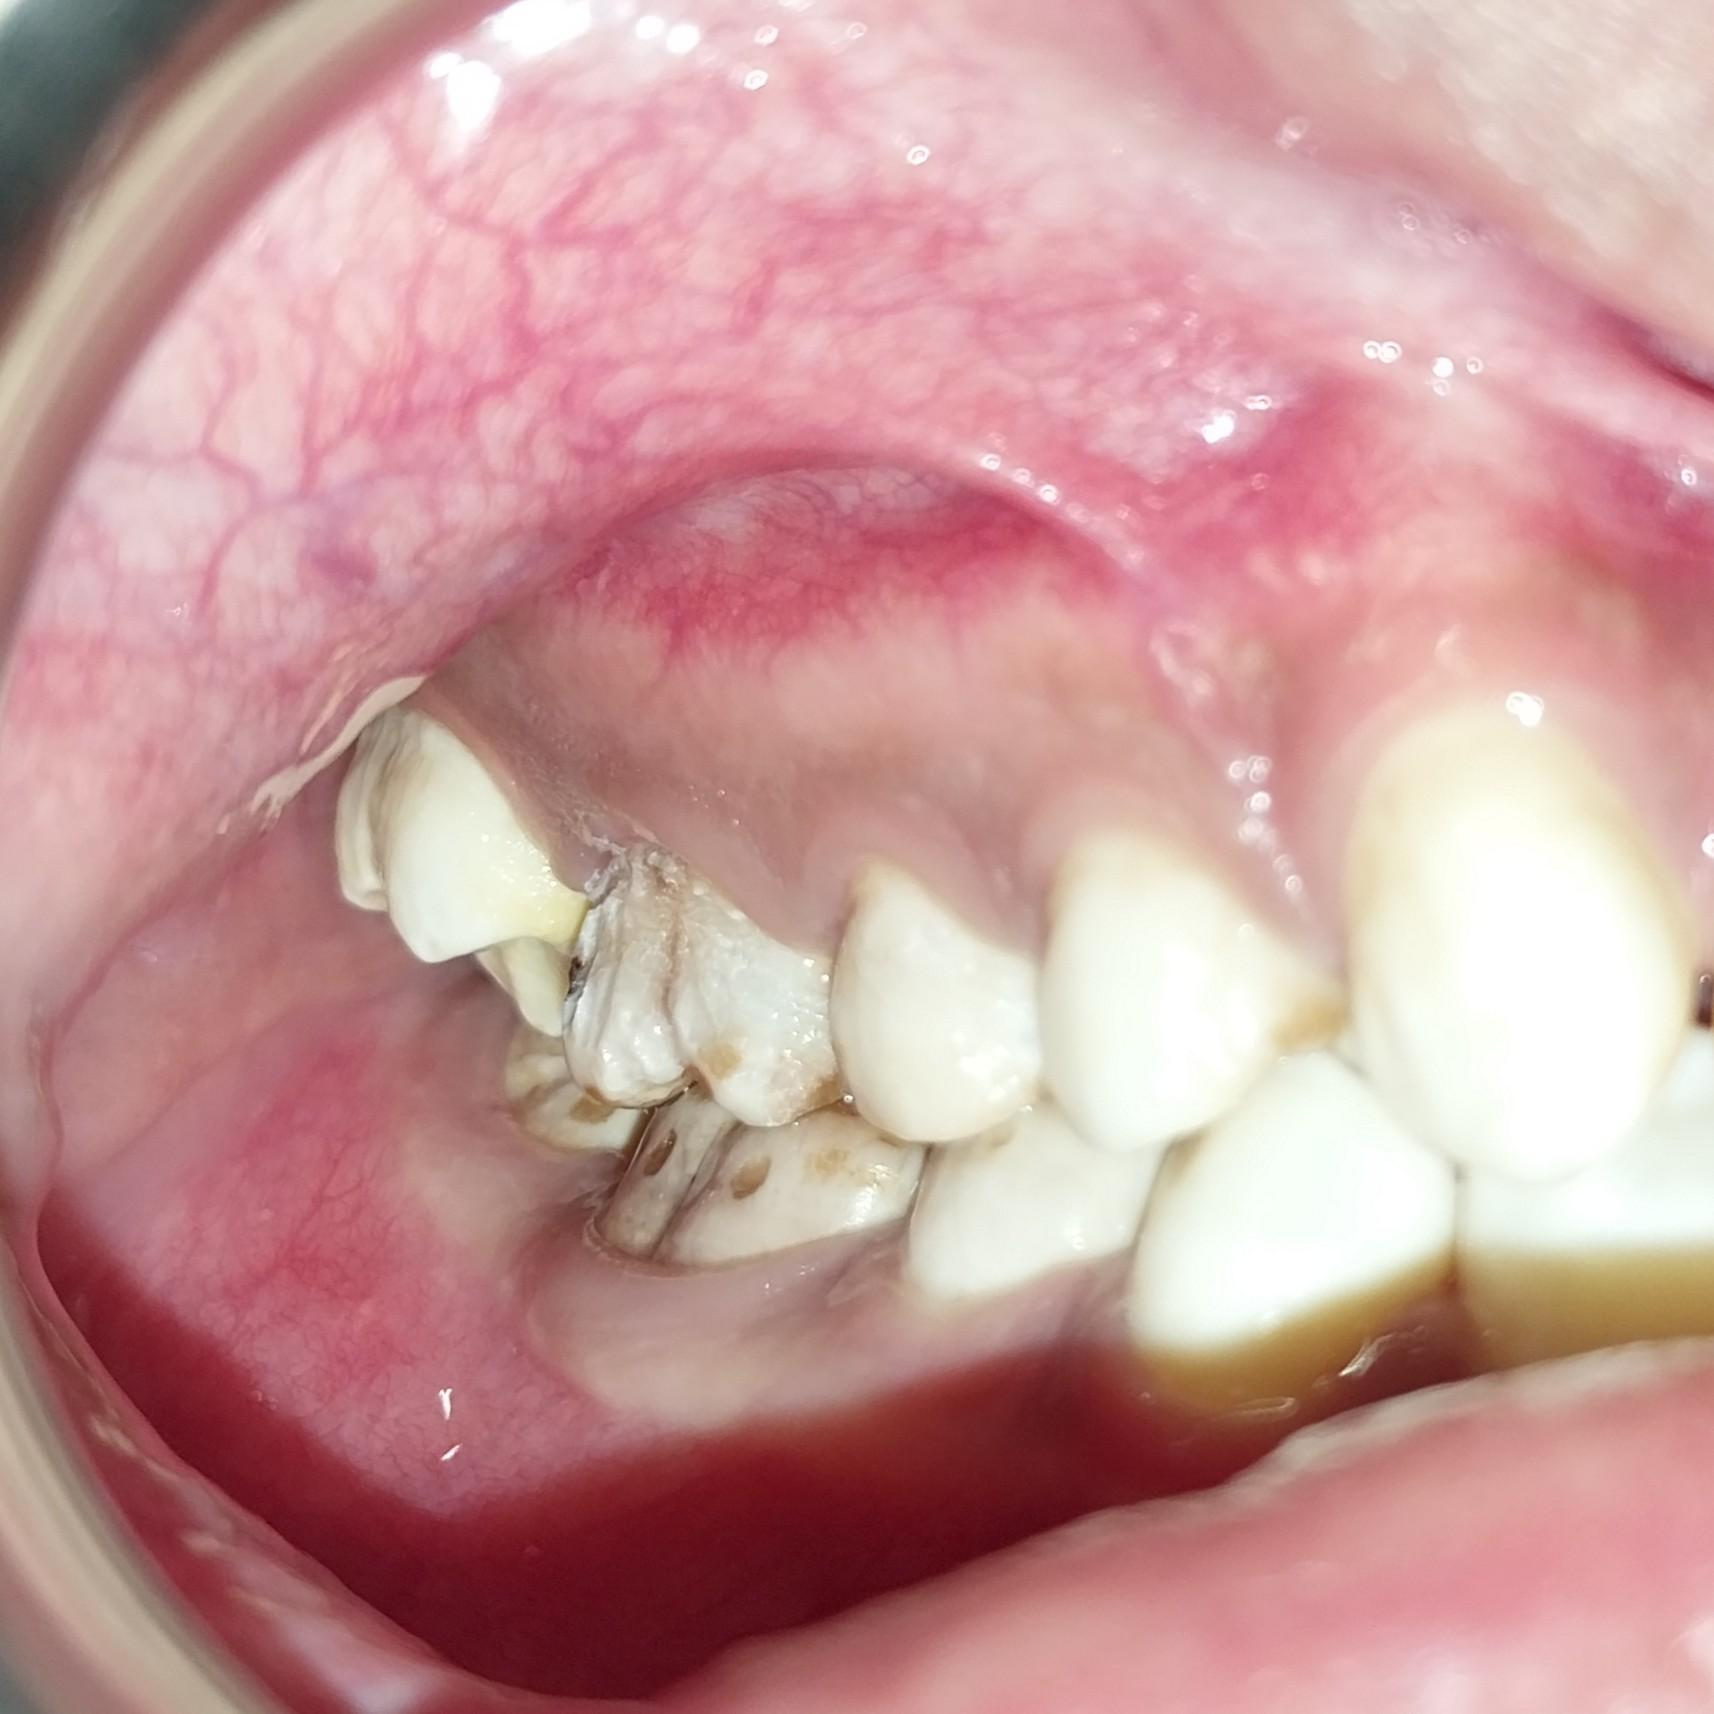D: (530, 839, 839, 1127), (571, 1068, 924, 1274)
